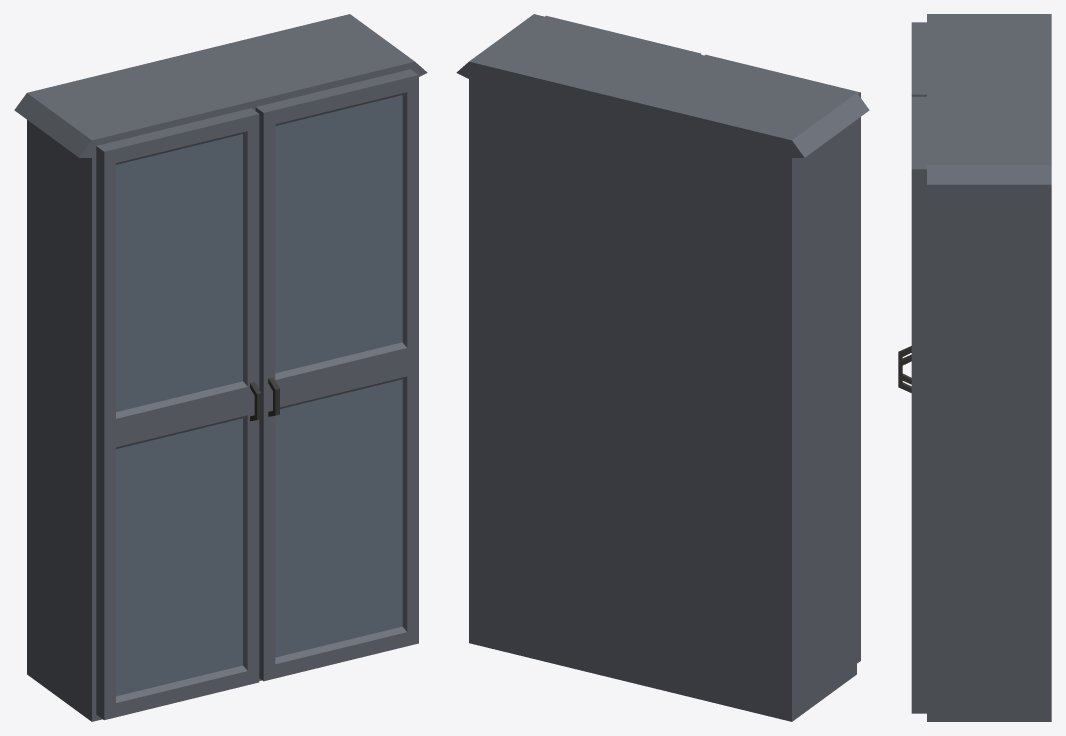
Rendered from WardRobe_1B.fbx.
3 views of the same model, side by side, from view 1: azimuth 30°, elevation 25°; view 2: azimuth 150°, elevation 25°; view 3: azimuth 270°, elevation 25° (orthographic). The views are drawn at different scales.
Parts seen in each view (by area): view 1: polySurface2068; view 2: polySurface2068; view 3: polySurface2068.
Part boxes in pixels (<box>): polySurface2068: <box>14,14,427,721</box>; polySurface2068: <box>456,14,869,721</box>; polySurface2068: <box>898,14,1051,721</box>.
Bounding box in the file's own units: 1.89 × 3.02 × 0.7531.
1 material, 1 textured.
